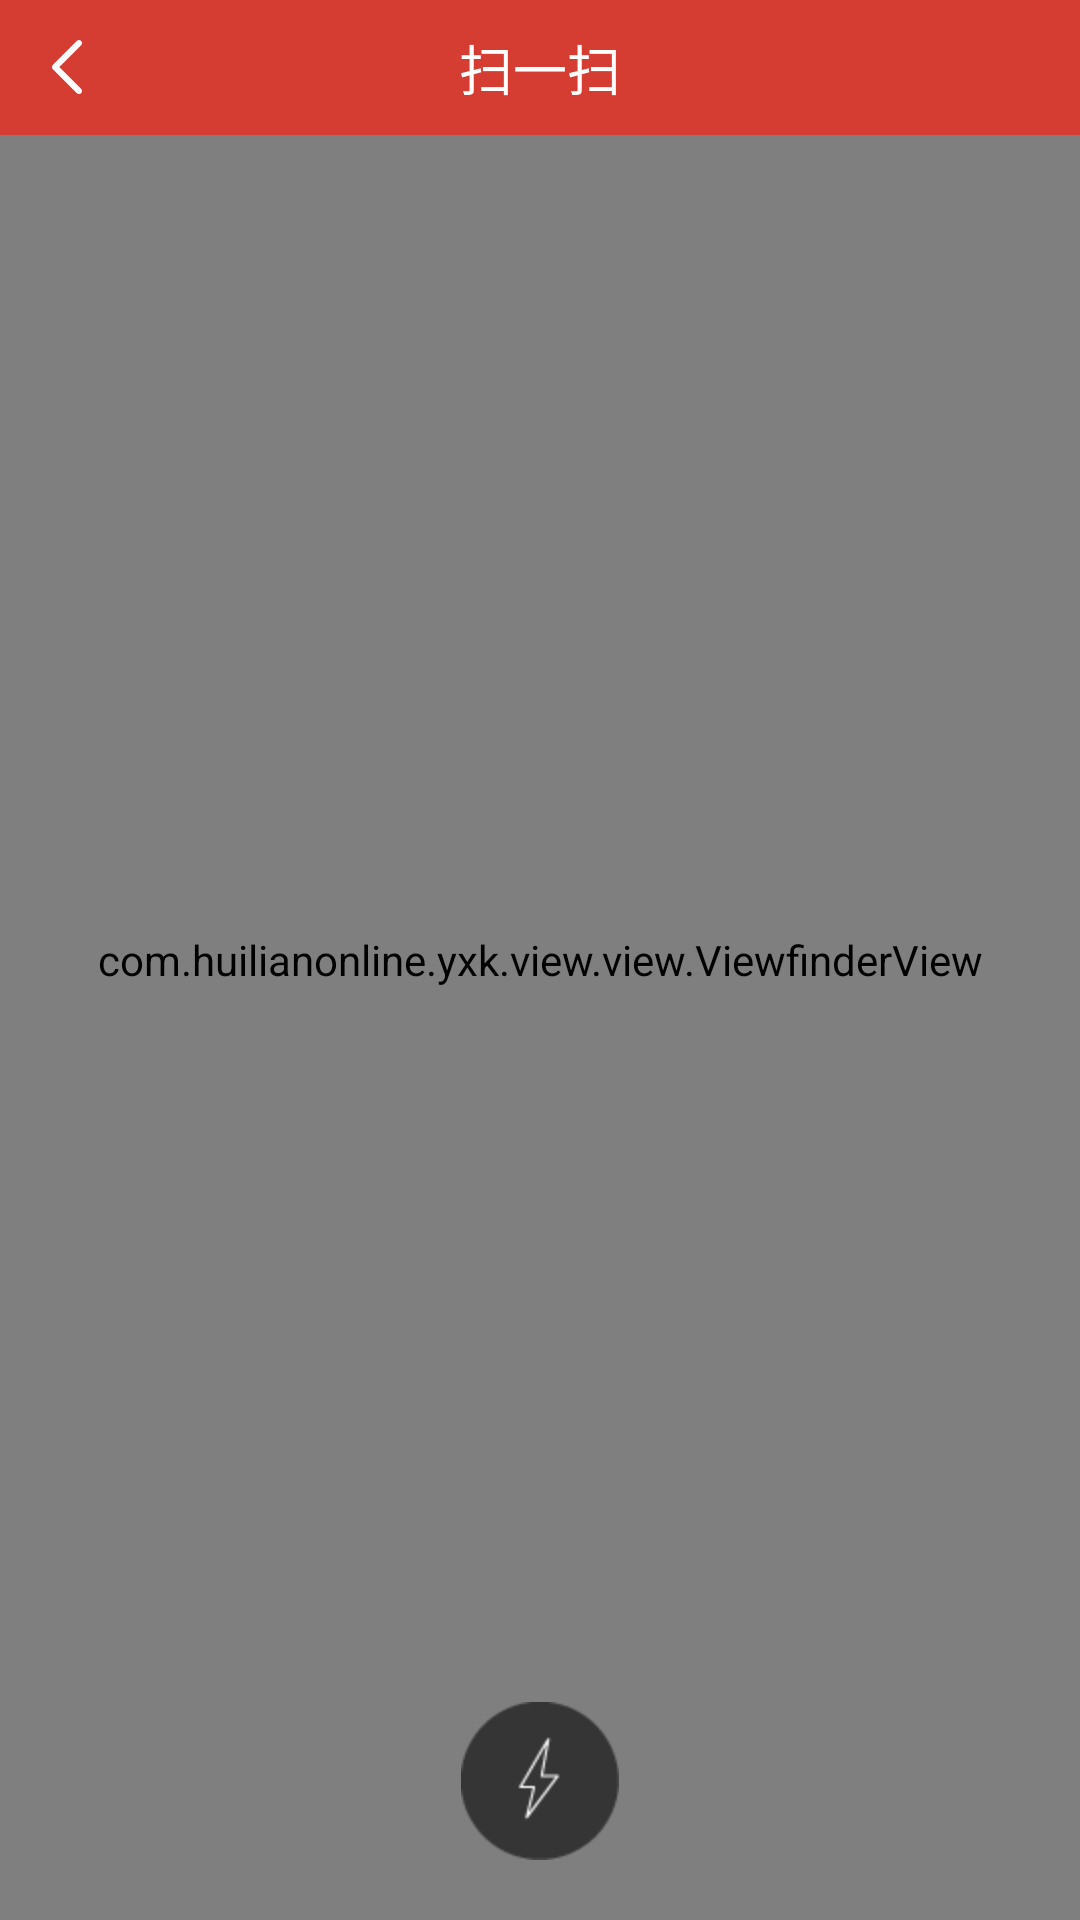

Icon click points for this 1080x1920 phone screenshot, format (x=x, y=y):
class back: (x=67, y=67)
